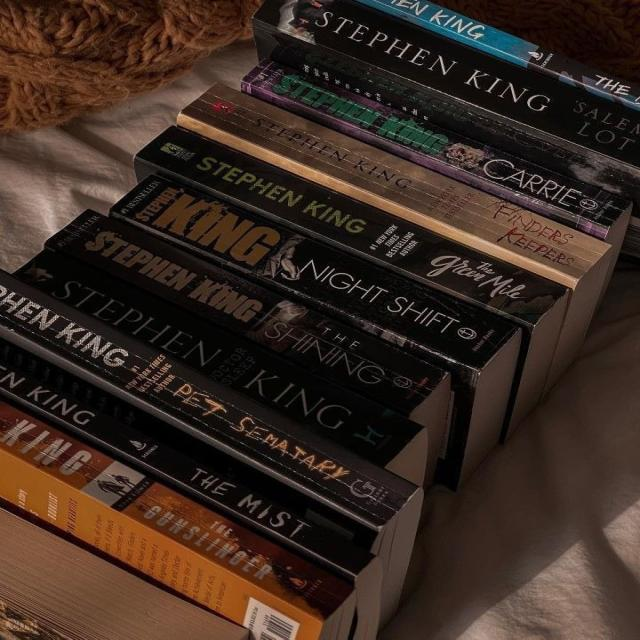book: (0, 274, 417, 526), (14, 238, 424, 467), (132, 123, 567, 324), (179, 83, 614, 283), (44, 207, 448, 419), (111, 176, 519, 370), (243, 59, 639, 234), (253, 0, 639, 166)
